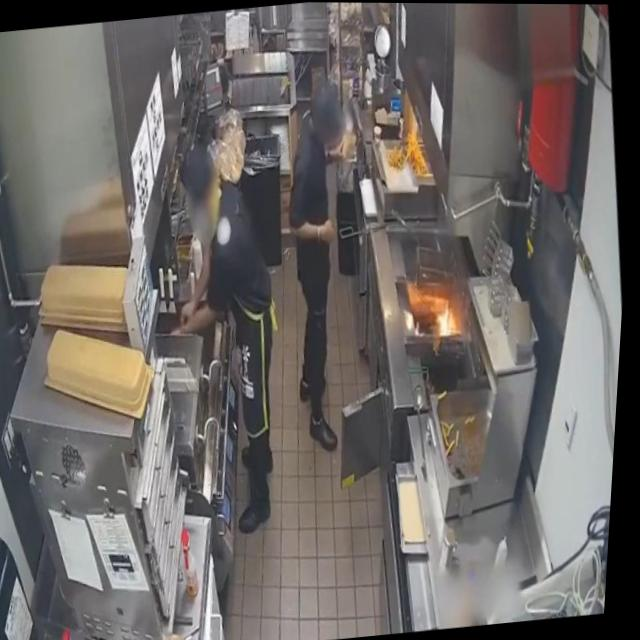fire: (434, 301, 463, 339)
